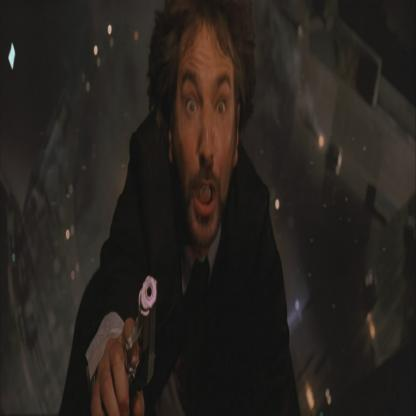gun: (124, 262, 165, 402)
